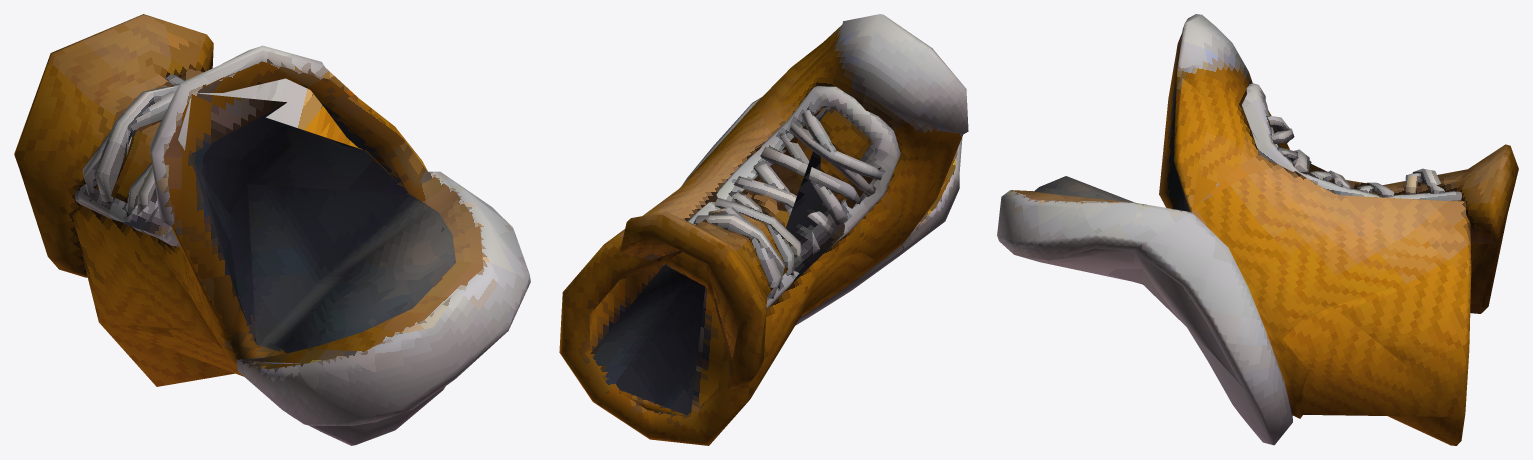
The model's file is item_rpg_ammo_shoe.glb.
The picture shows the model from 3 angles, left to right: view 1: azimuth 30°, elevation 25°; view 2: azimuth 150°, elevation 25°; view 3: azimuth 270°, elevation 25°; orthographic projection. The views are drawn at different scales.
Visible parts, largest first — view 1: RPG_ShoeRocket; view 2: RPG_ShoeRocket; view 3: RPG_ShoeRocket.
Boxes of the visible parts, x1,y1,x2,y2 form: RPG_ShoeRocket: [14, 14, 530, 445]; RPG_ShoeRocket: [559, 14, 968, 445]; RPG_ShoeRocket: [997, 14, 1518, 445].
Size of the model in its own units: 0.3749 by 0.4559 by 0.5809.
1 material, 1 textured.
